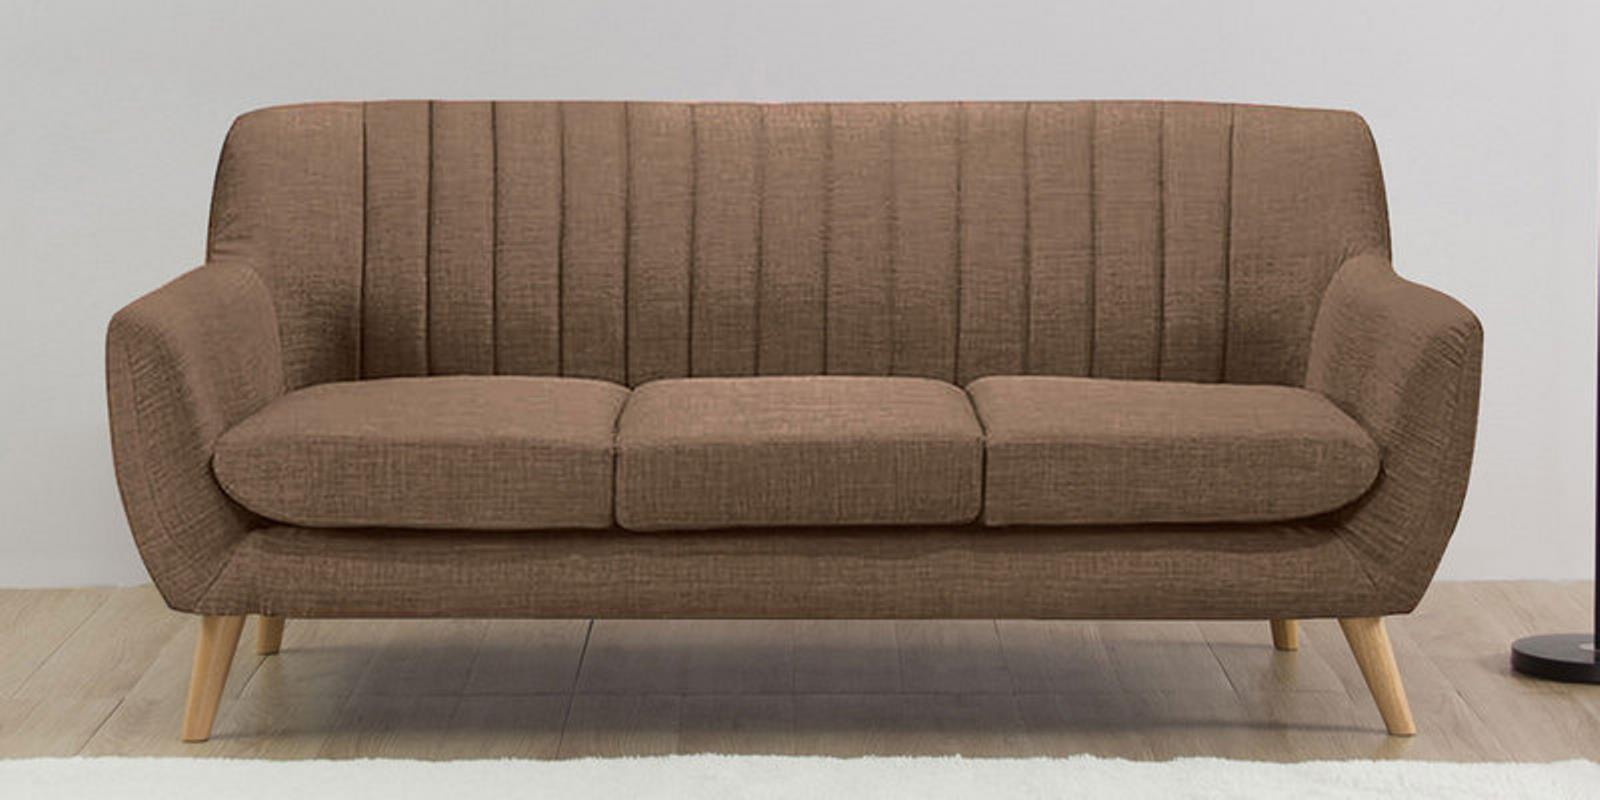Managua Three Seater Sofa in Coyote Colour by CasaCraft: (103, 98, 1485, 742)
